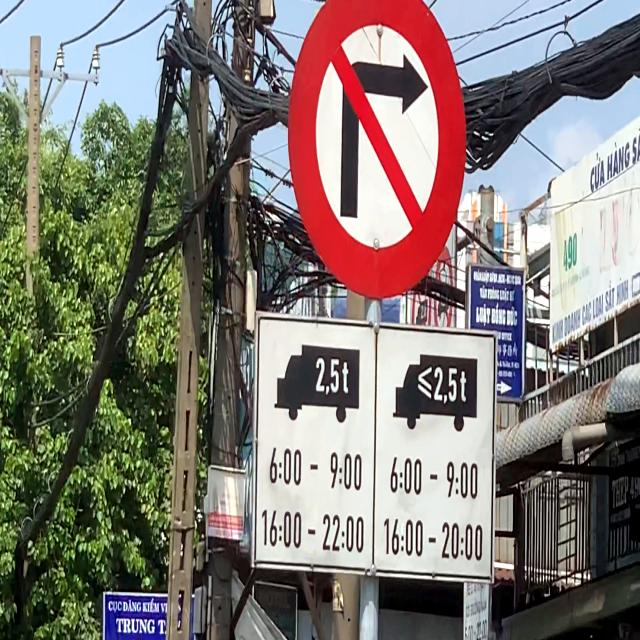P.123b: (287, 0, 468, 301)
